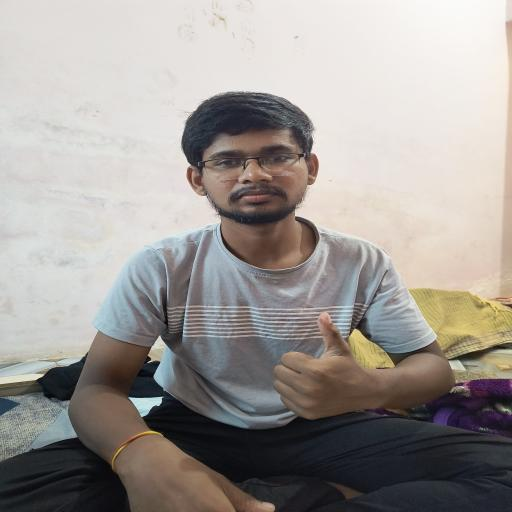Good Morning: (244, 301, 409, 436)
